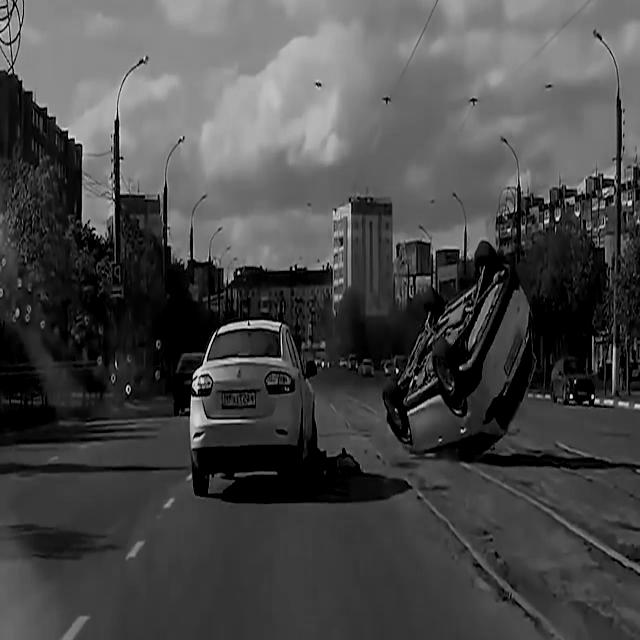accident: (382, 238, 540, 456)
non-accident: (172, 323, 318, 502), (339, 354, 377, 378)
